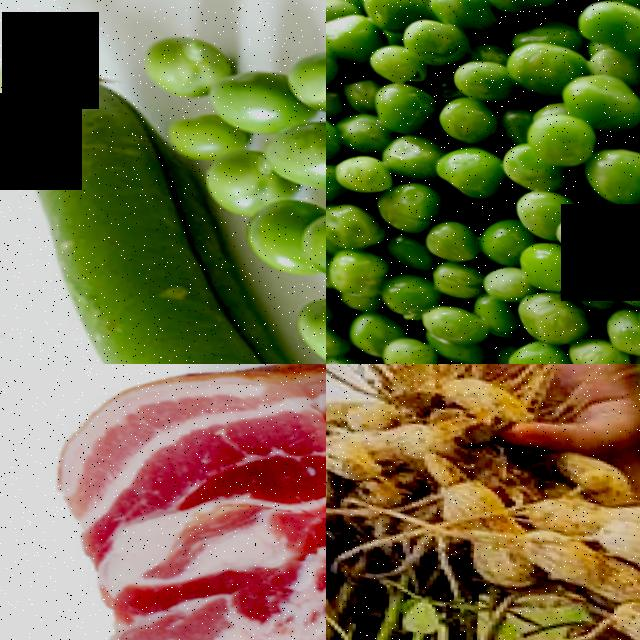peanuts: (516, 523, 603, 585), (593, 510, 640, 574)
peas: (326, 0, 640, 364), (163, 22, 326, 226), (240, 183, 326, 364)
pork belly: (39, 364, 326, 612), (84, 520, 326, 640)
